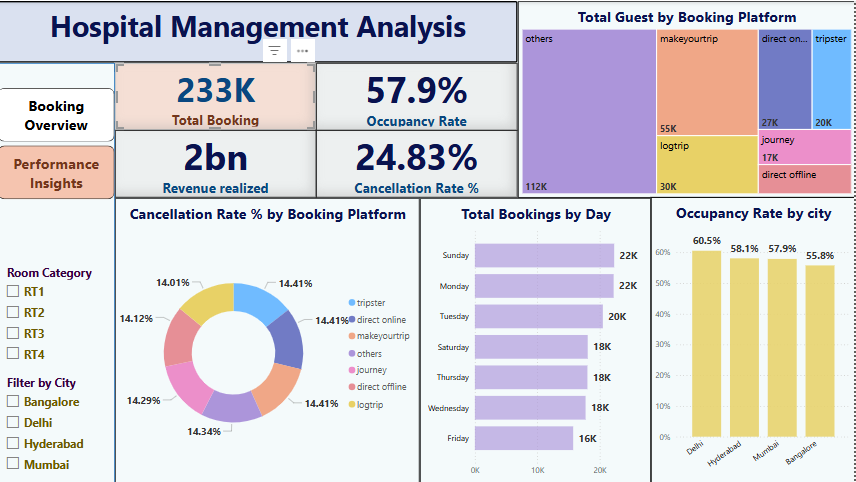

The dashboard page shown, as its layout file describes it:
{"tool":"powerbi","page":{"name":"Overview","canvas":[1280,720],"ordinal":0},"visuals":[{"type":"textbox","box":[0,0,776.1,92.4],"z":0},{"type":"card","fields":{"Values":["Key Measures Table.Total Capacity"]},"box":[174.7,92.4,300.7,100.8],"z":1000},{"type":"card","fields":{"Values":["Key Measures Table.Revenue realized"]},"box":[174.7,193.2,300.7,100.8],"z":2000},{"type":"card","fields":{"Values":["Key Measures Table.Cancellation Rate %"]},"box":[475.4,193.2,300.7,100.8],"z":3000},{"type":"card","fields":{"Values":["Key Measures Table.Occupancy Rate"]},"box":[475.4,92.4,300.7,100.8],"z":4000},{"type":"treemap","title":"Total Guest by Booking Platform","fields":{"Values":["Key Measures Table.Total guest"],"Group":["fact_booking.booking_platform"]},"box":[776.1,0,503.9,294],"z":5000},{"type":"donutChart","title":"Cancellation Rate % by Booking Platform","fields":{"Y":["Key Measures Table.Cancel Booking Rate"],"Category":["fact_booking.booking_platform"]},"box":[174.7,294,455.2,426.7],"z":6000},{"type":"clusteredBarChart","fields":{"Category":["dim_date.Day"],"Y":["Key Measures Table.Total Bookings"]},"box":[630.4,294.3,345.1,425.7],"z":7000},{"type":"columnChart","fields":{"Y":["Key Measures Table.Occupancy Rate"],"Category":["dim_hotel.city"]},"box":[975.4,292.8,304.7,427.2],"z":8000},{"type":"shape","box":[0,92.6,174.8,627.4],"z":9000},{"type":"slicer","fields":{"Values":["dim_hotel.city"]},"box":[0,552.7,174.8,167.3],"z":10000},{"type":"slicer","fields":{"Values":["fact_aggregated_booking.room_category"]},"box":[0,388.4,174.8,164.3],"z":11000},{"type":"pageNavigator","box":[0,192.7,174.8,150.9],"z":12000}]}

Visuals, with their boxes in screenshot pixels (x1, y1, x2, y2), scaled from the page's 1280x720 canvas onto the 856x482 screenshot:
textbox: (0,0,519,62)
card - Key Measures Table.Total Capacity: (117,62,318,129)
card - Key Measures Table.Revenue realized: (117,129,318,197)
card - Key Measures Table.Cancellation Rate %: (318,129,519,197)
card - Key Measures Table.Occupancy Rate: (318,62,519,129)
"Total Guest by Booking Platform" treemap: (519,0,855,197)
"Cancellation Rate % by Booking Platform" donutChart: (117,197,421,481)
clusteredBarChart - dim_date.Day x Key Measures Table.Total Bookings: (422,197,652,481)
columnChart - Key Measures Table.Occupancy Rate x dim_hotel.city: (652,196,855,481)
shape: (0,62,117,481)
slicer - dim_hotel.city: (0,370,117,481)
slicer - fact_aggregated_booking.room_category: (0,260,117,370)
pageNavigator: (0,129,117,230)
